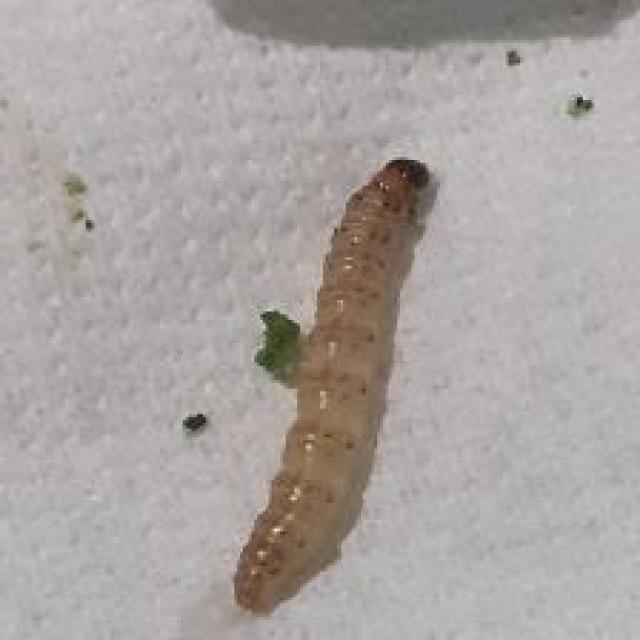white mucus: (215, 142, 458, 618)
